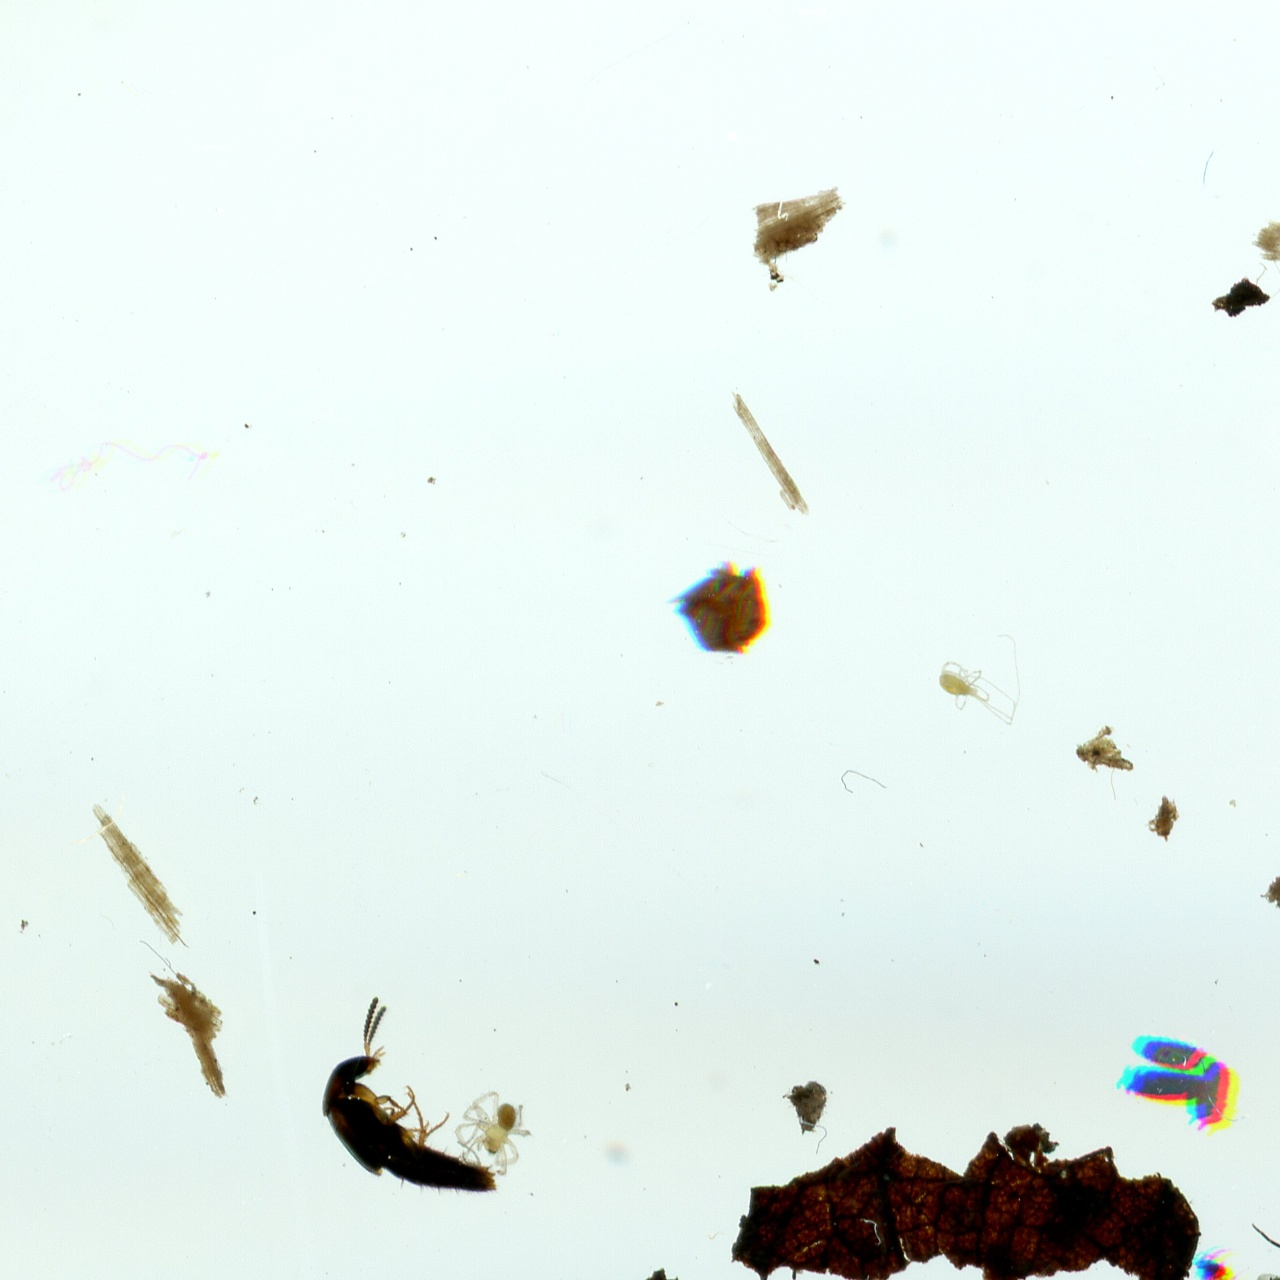arthropod: (276, 985, 507, 1253), (934, 629, 1023, 728), (451, 1086, 534, 1180), (1113, 1060, 1203, 1108), (1192, 1056, 1238, 1135), (1137, 1032, 1211, 1079), (1194, 1246, 1248, 1280)
